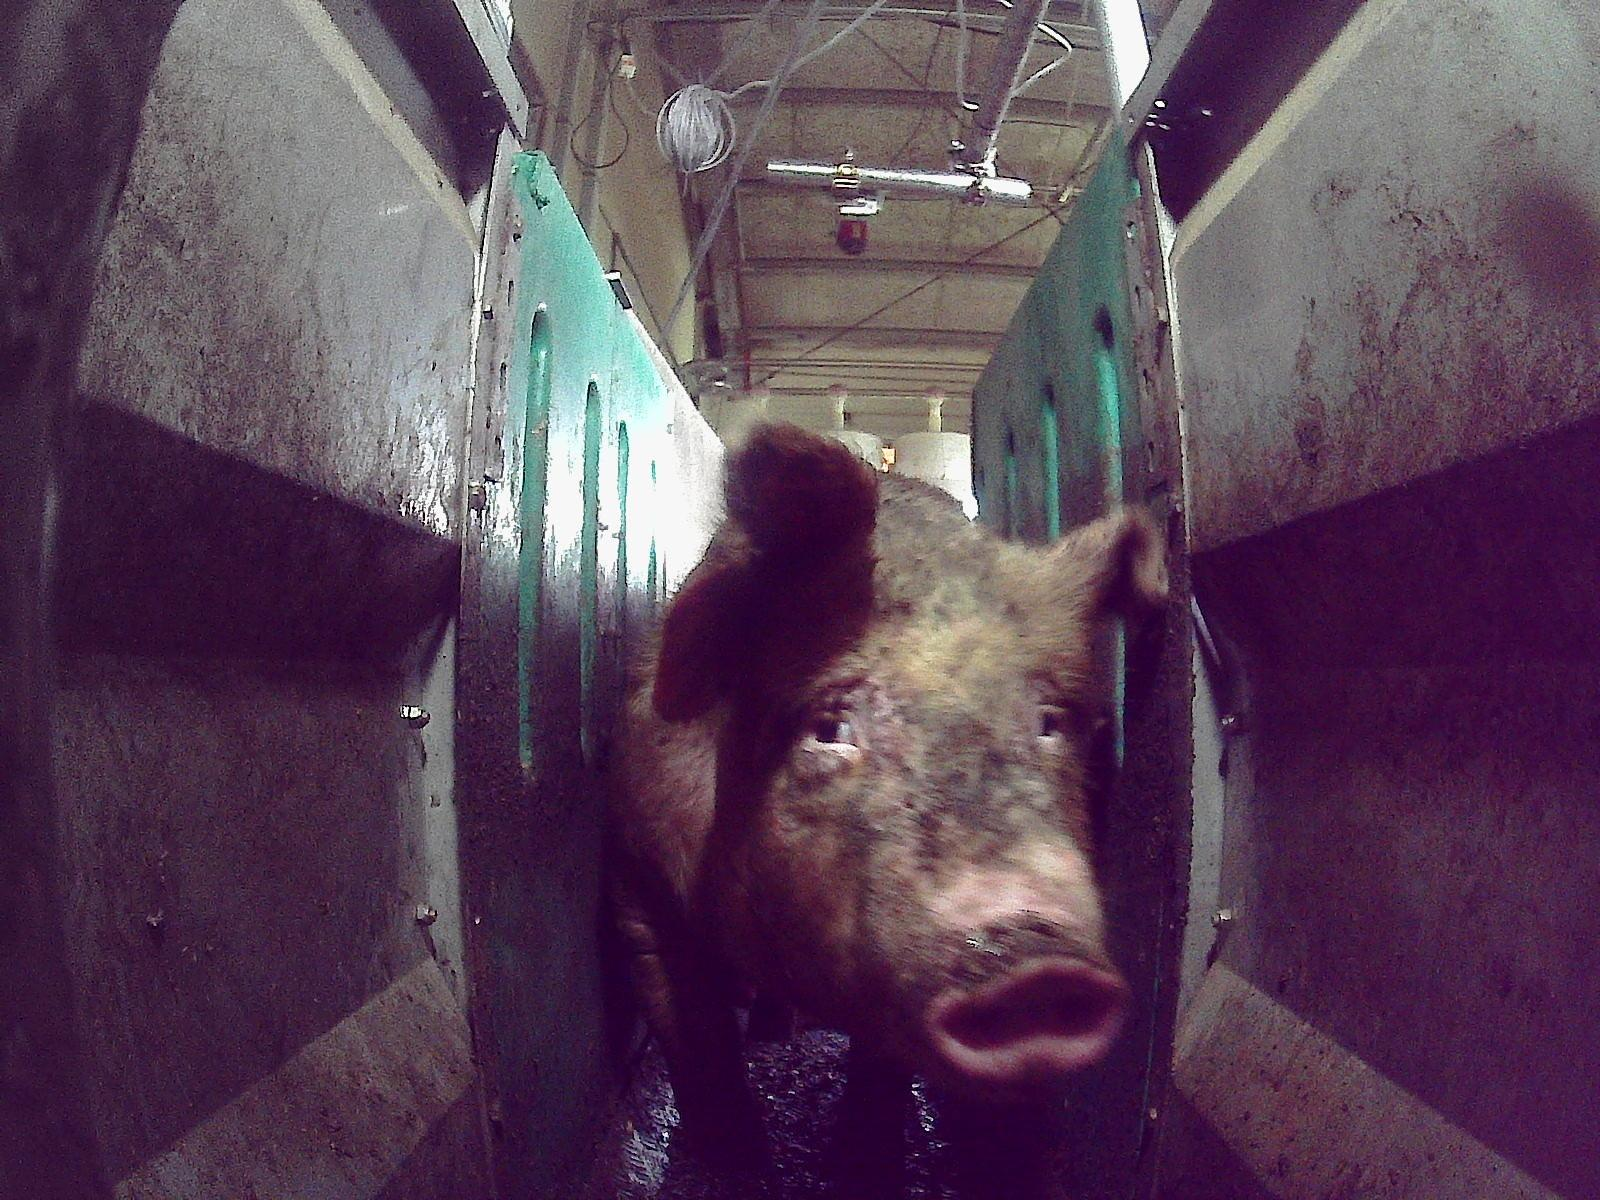Face: (748, 562, 1134, 1082)
